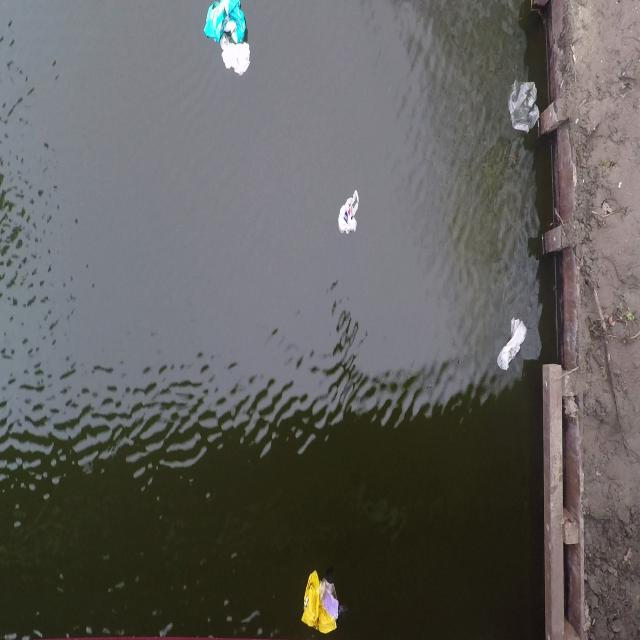Sac plastique: (296, 565, 346, 637), (492, 305, 526, 386), (504, 72, 540, 142), (332, 178, 364, 251), (199, 0, 249, 46)
